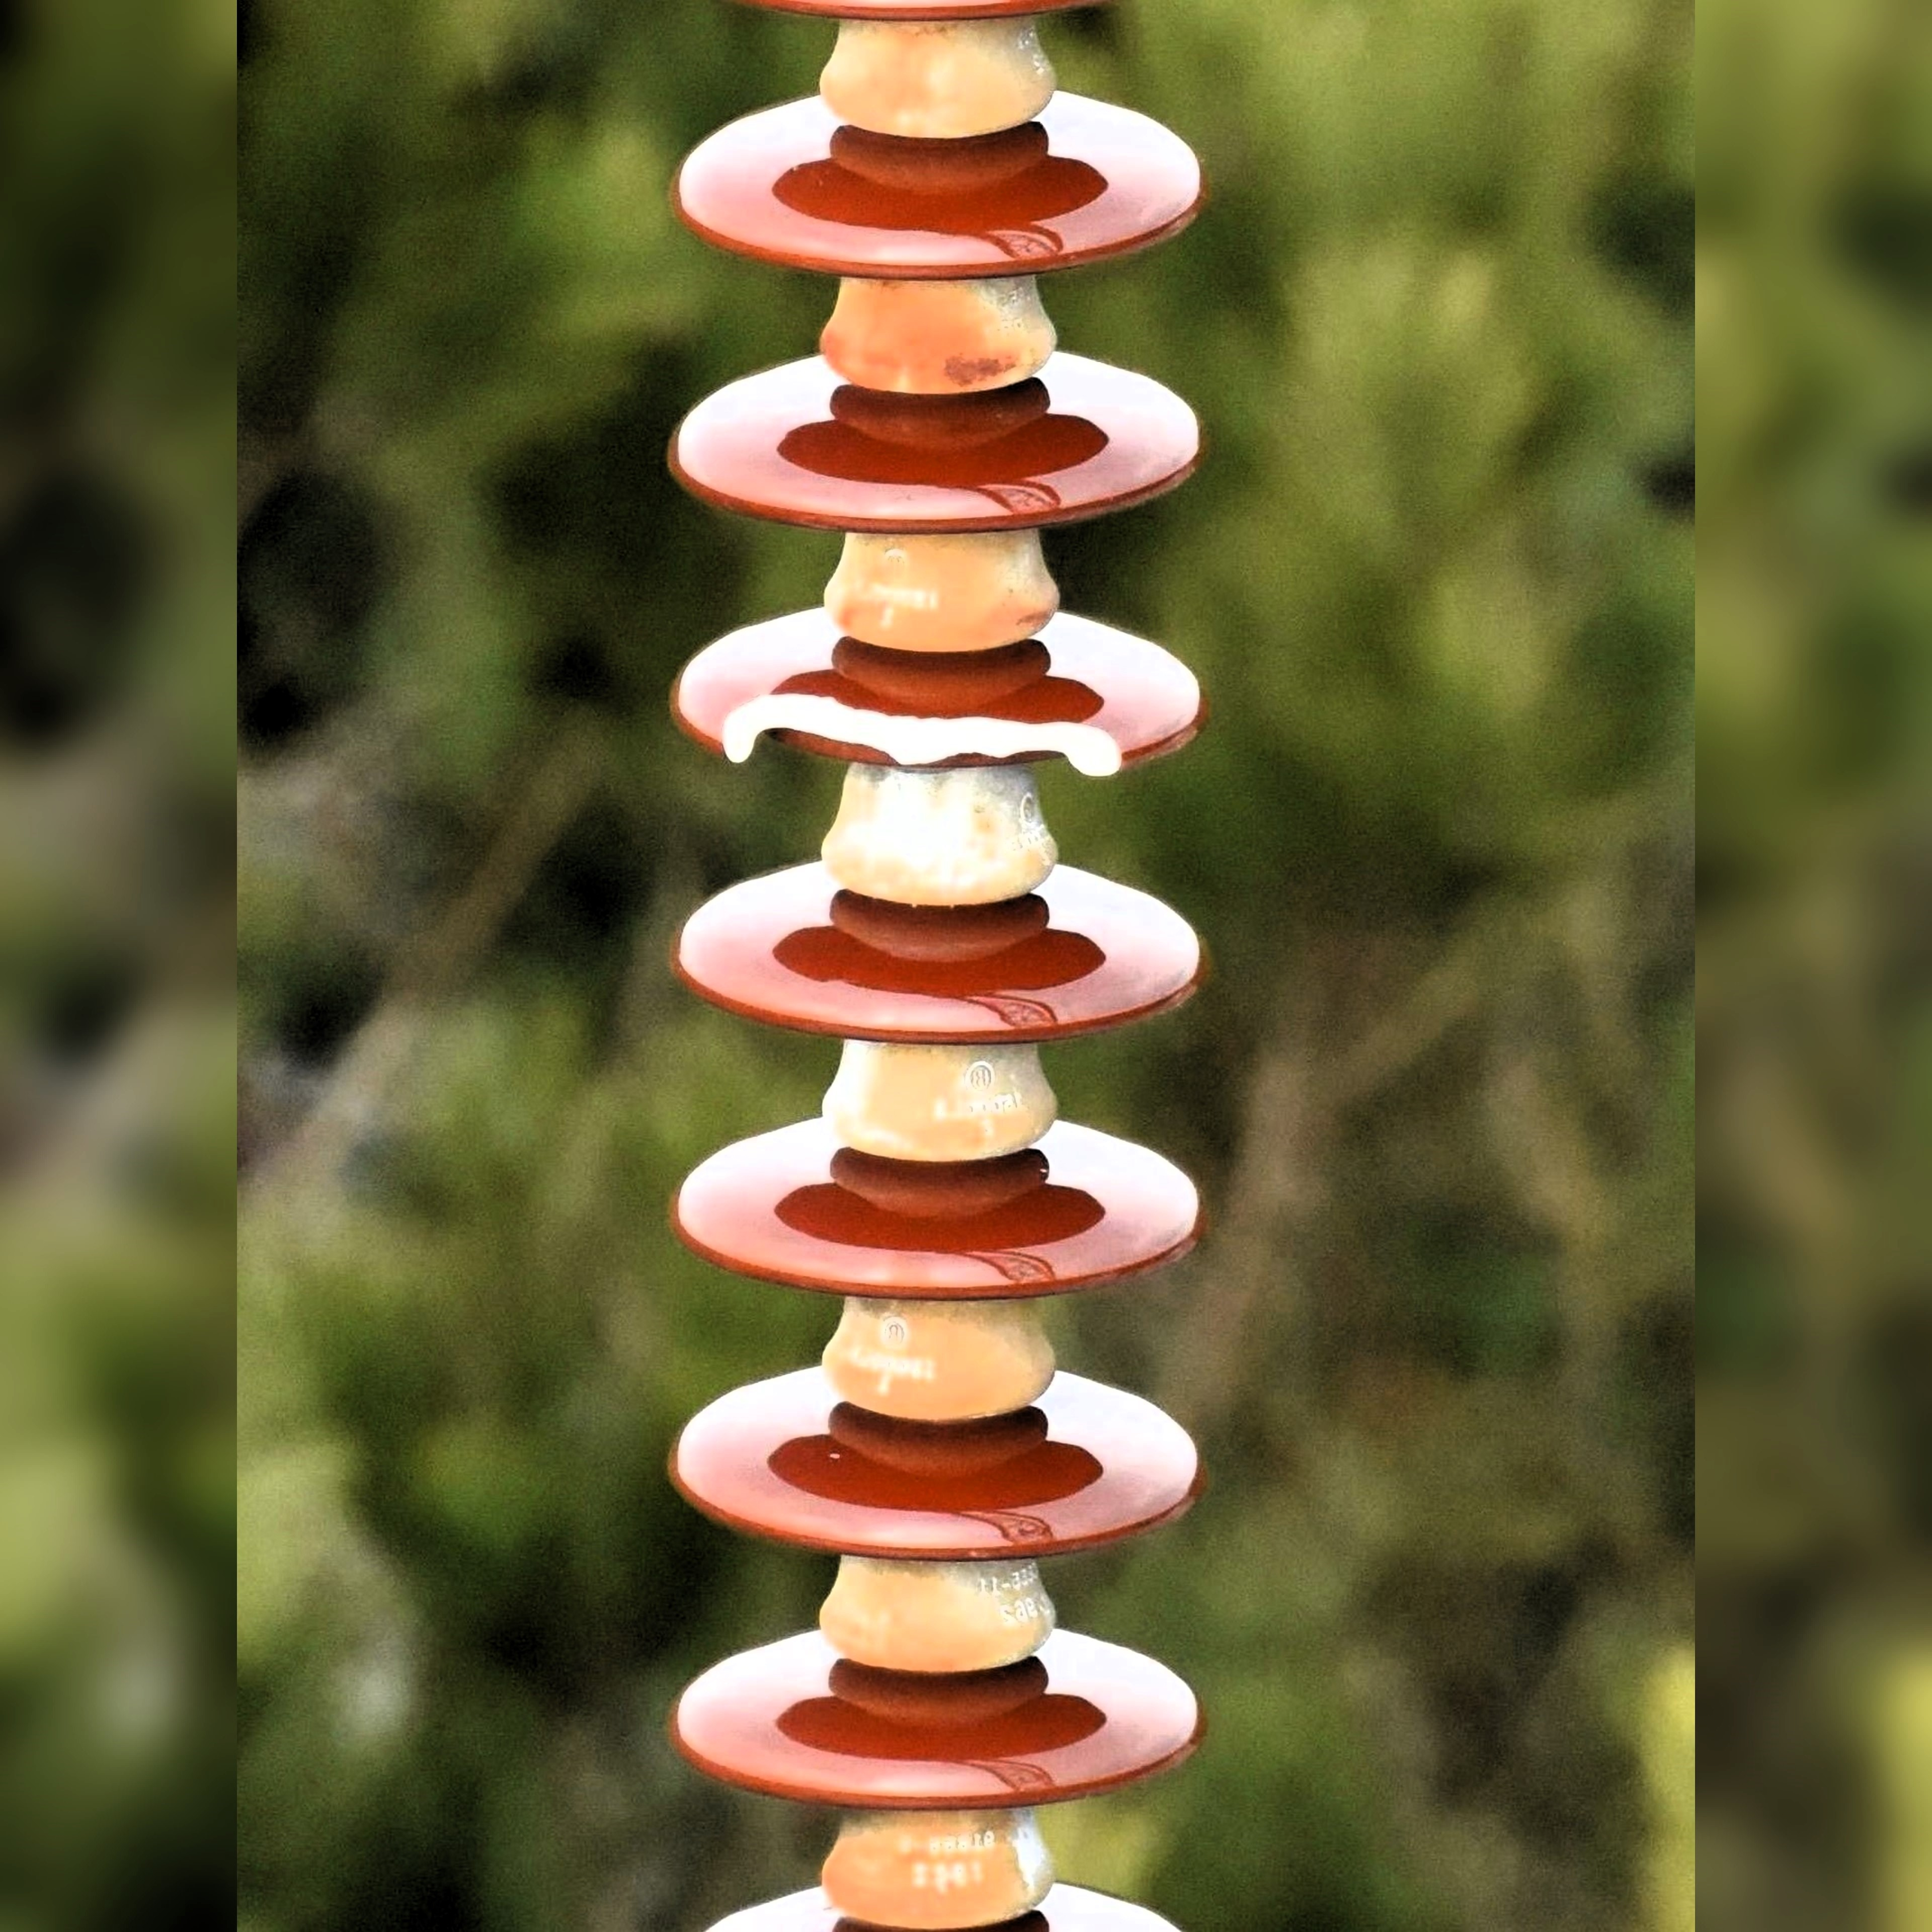insulator breakage: (669, 600, 1214, 824)
